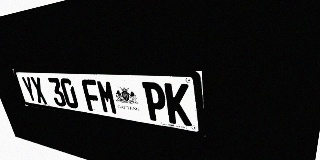0: (59, 78, 79, 109)
3: (47, 77, 67, 107)
F: (81, 79, 103, 113)
K: (164, 83, 192, 126)
M: (96, 80, 119, 115)
P: (142, 82, 168, 123)
X: (30, 77, 48, 104)
Y: (21, 76, 38, 103)
